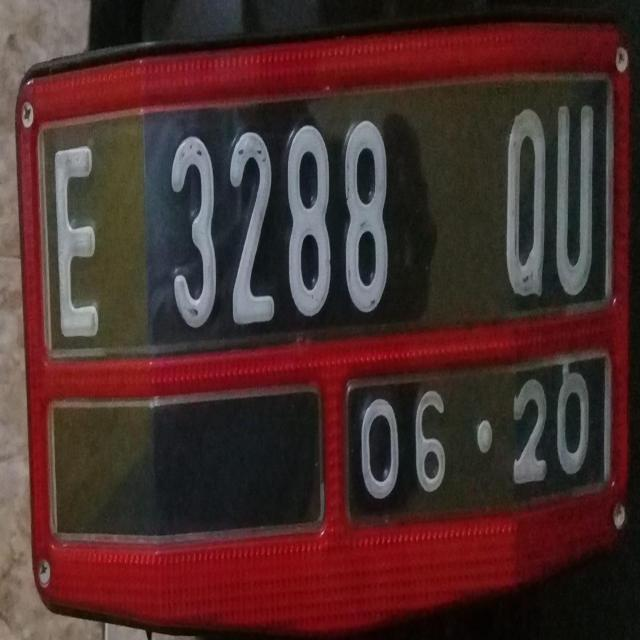2: (224, 123, 279, 327)
3: (163, 127, 224, 330)
8: (340, 112, 394, 322), (282, 118, 335, 322)
E: (46, 135, 102, 341)
Q: (499, 100, 552, 308)
U: (552, 98, 596, 300)
